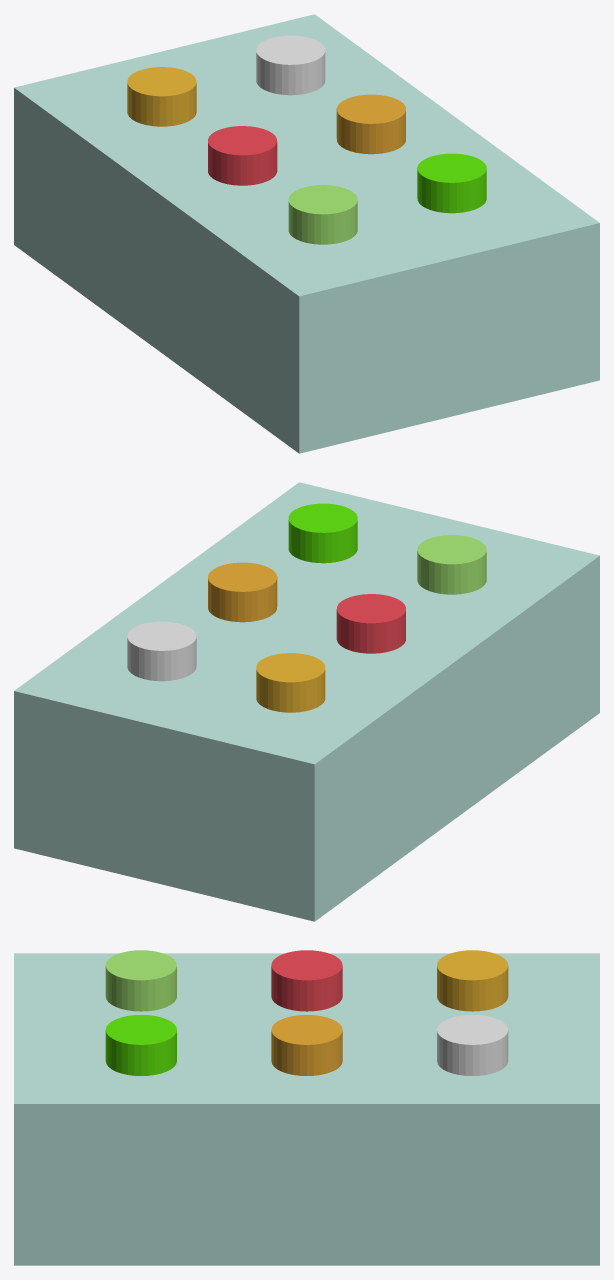
The model's file is 制御ボックス.fbx.
3 views of the same model, one above another, from view 1: azimuth 30°, elevation 25°; view 2: azimuth 150°, elevation 25°; view 3: azimuth 270°, elevation 25° (orthographic). The views are drawn at different scales.
Parts seen in each view (by area): view 1: 円柱.002; view 2: 円柱.002; view 3: 円柱.002.
Part boxes in pixels (x1,y1,x2,y2): 円柱.002: [14, 14, 599, 453]; 円柱.002: [14, 482, 599, 921]; 円柱.002: [14, 950, 599, 1265].
Size of the model in its own units: 28 by 16.7 by 46.
